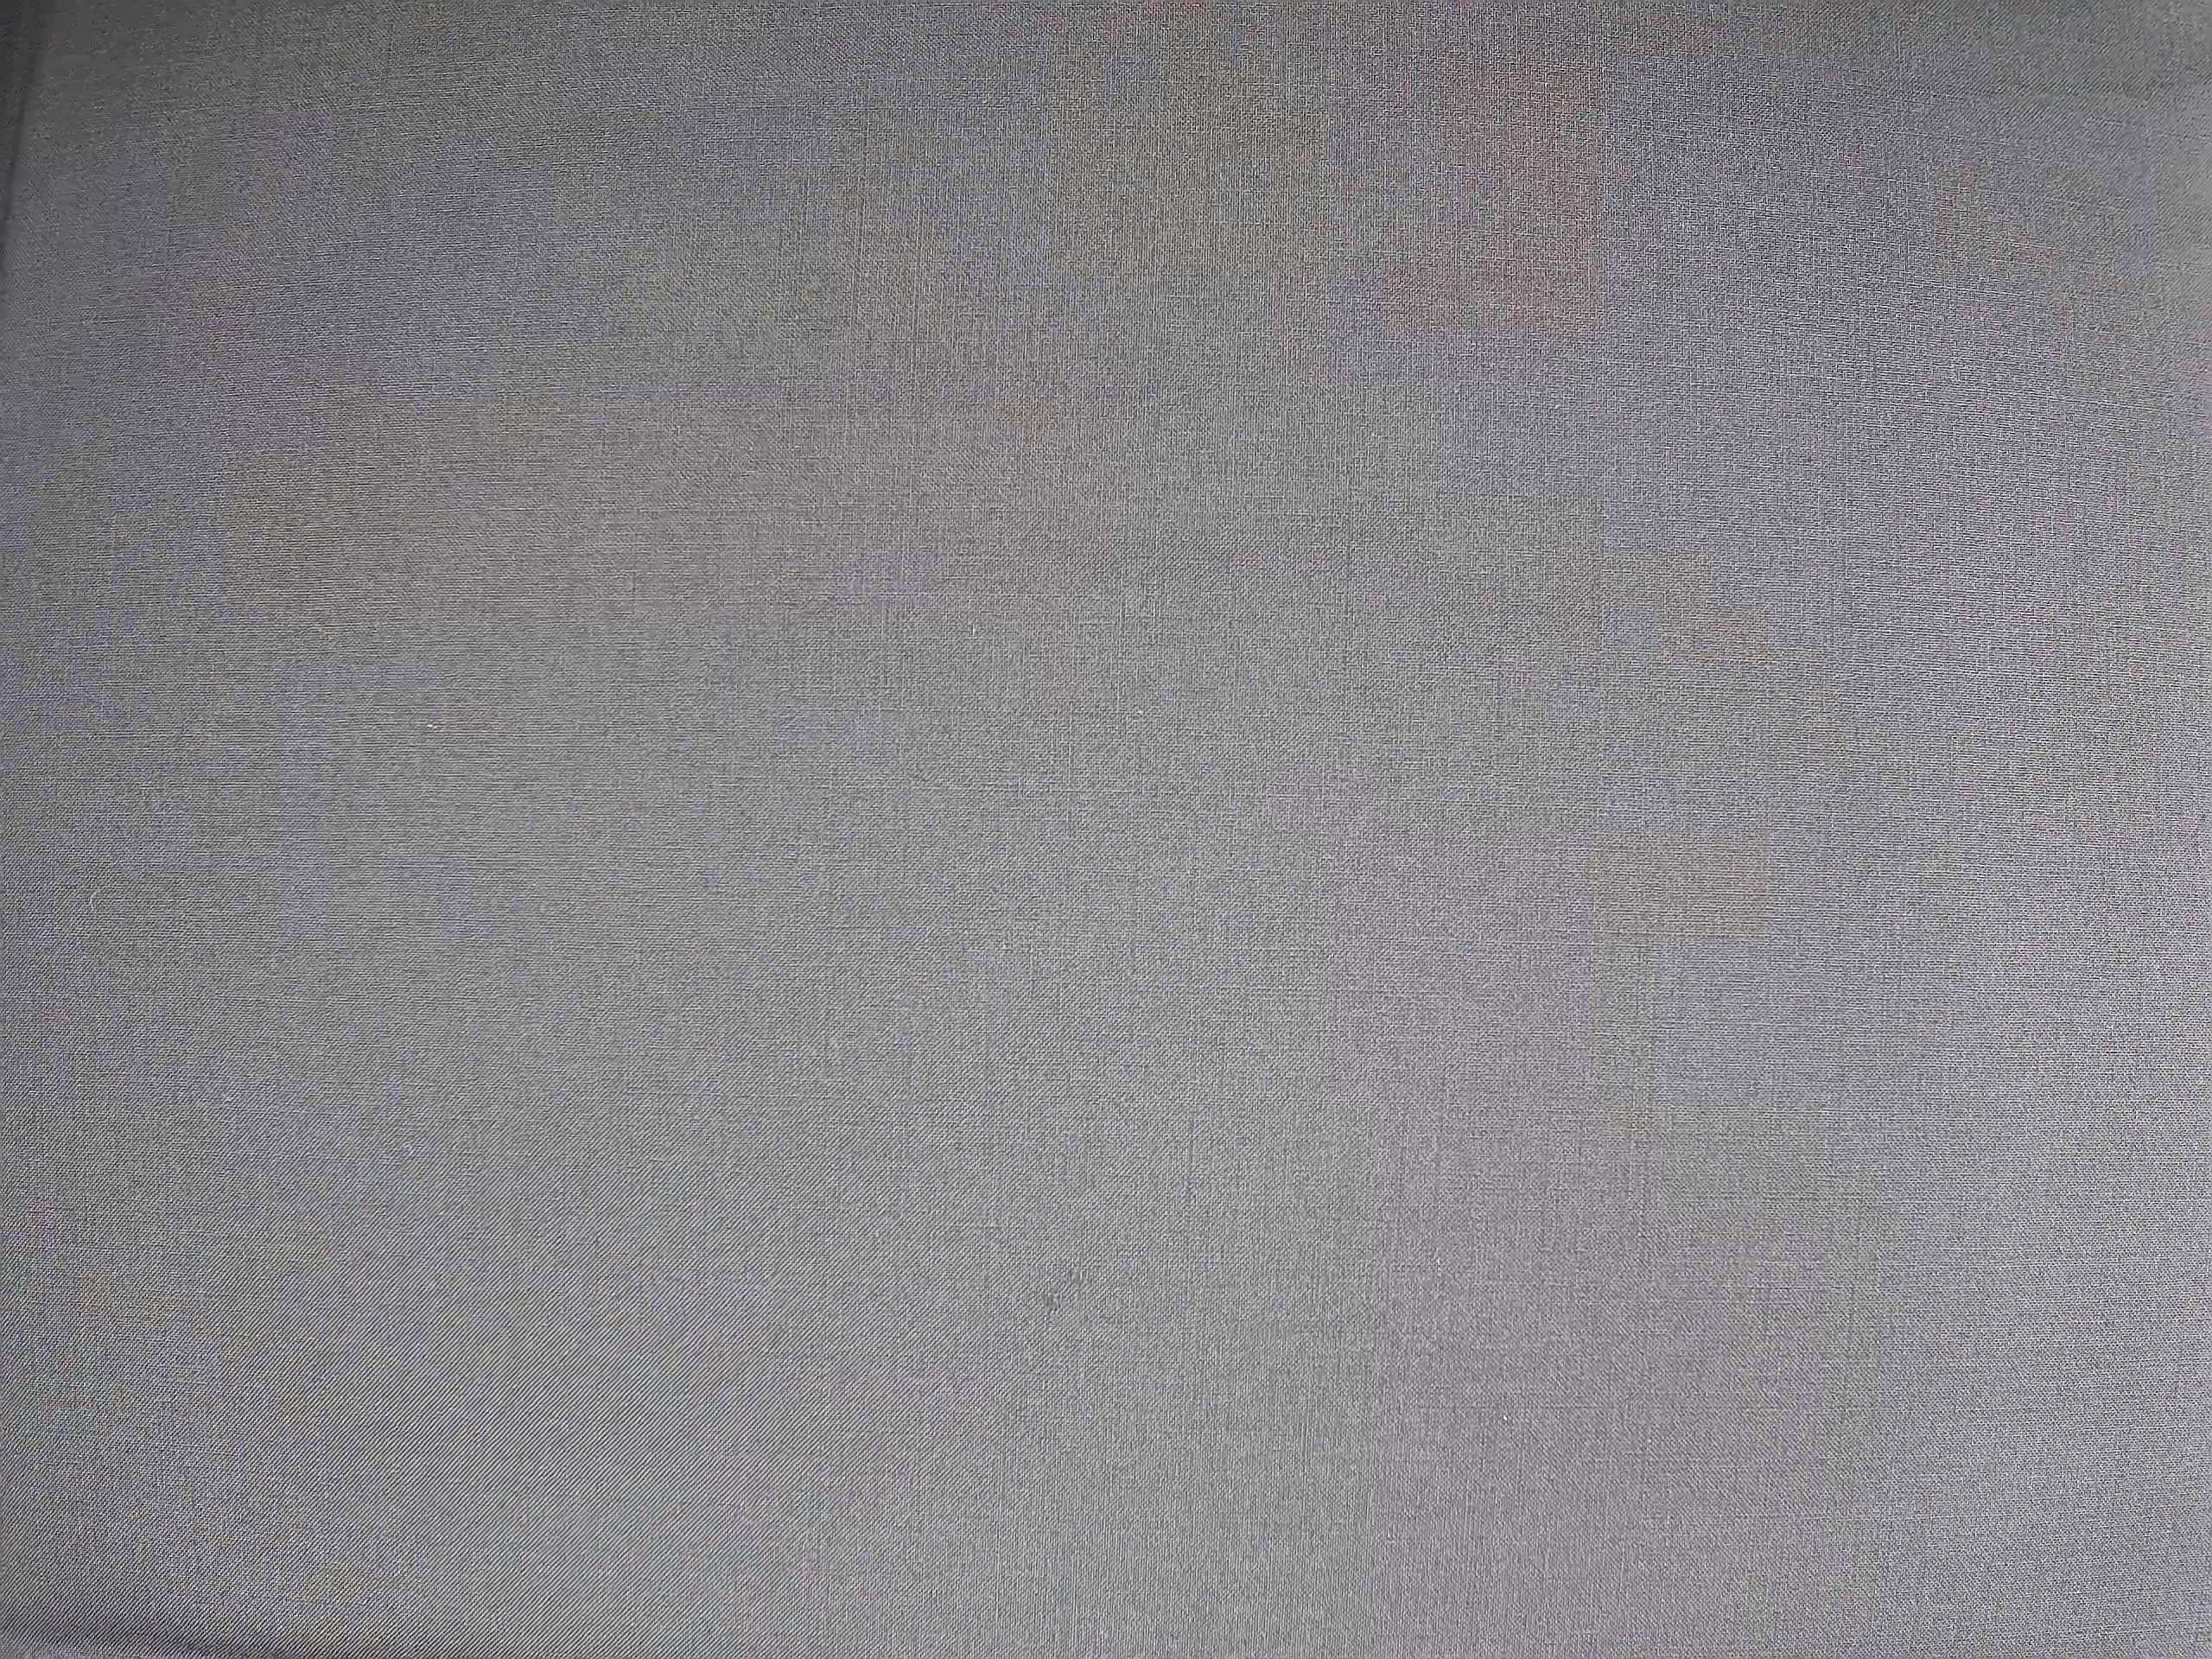rubbing-hole: (1024, 1248, 1106, 1328)
